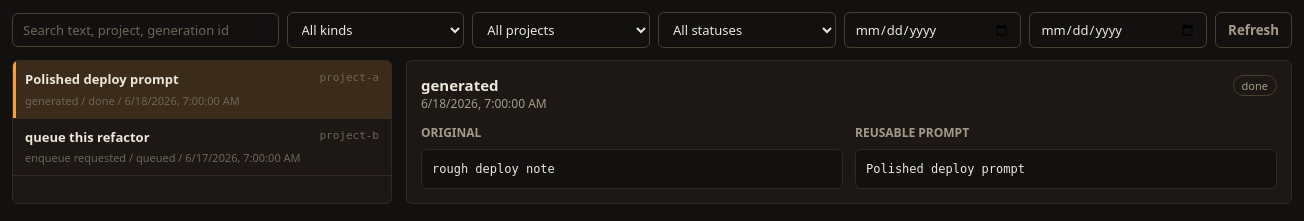
PromptHistoryPanel › filters history by text and shows the comparison for the selected prompt
The width and height of the screenshot is (1304, 221).
In the field with placeholder "Search text, project, generation id": (145, 30) [12,13,279,47], type "refactor"
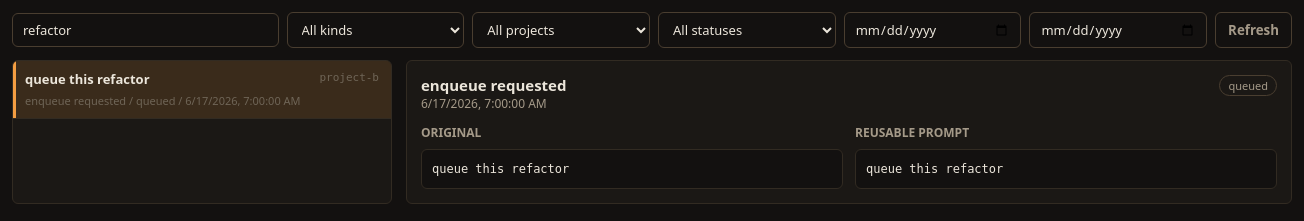
Expected: the text "queue this refactor" is shown, [25,70,150,88]
Expected: the text "Polished deploy prompt" is gone
